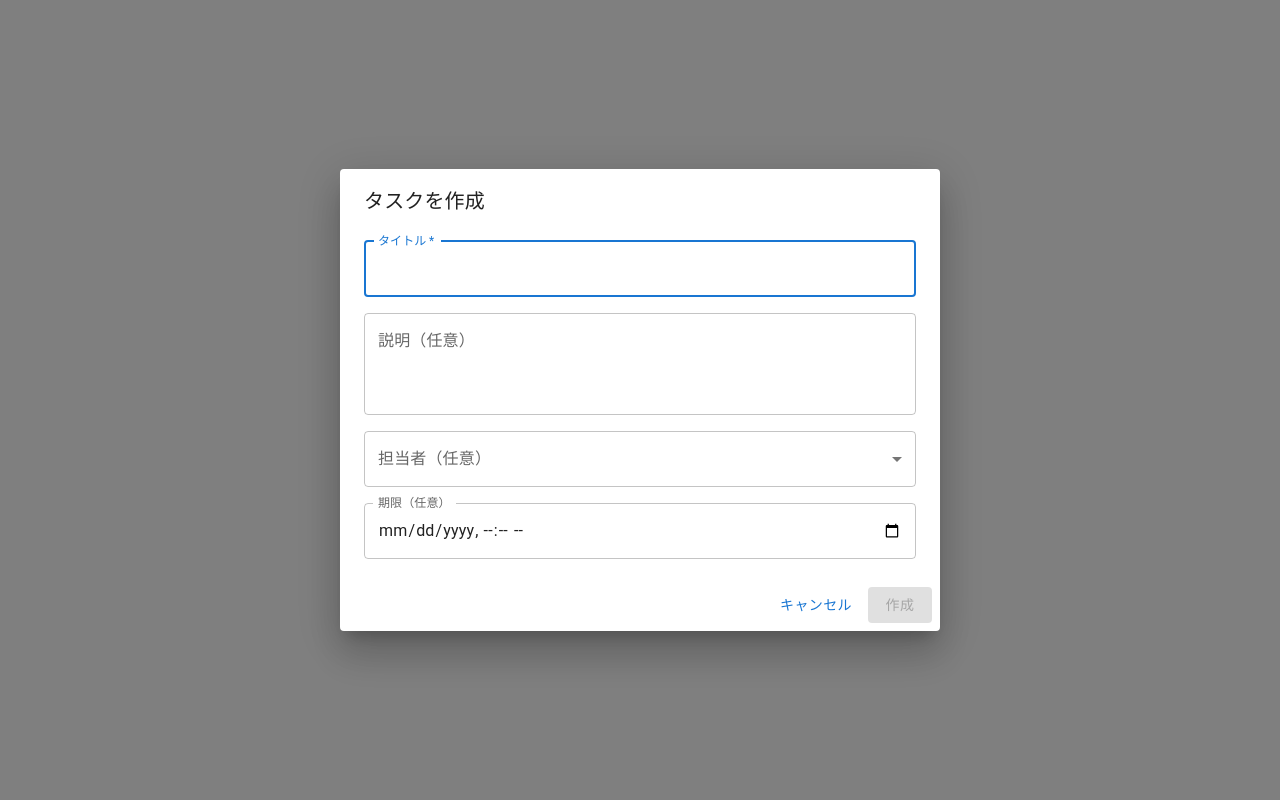
Test: CreateTaskDialog › フォームバリデーション › タイトルを入力すると送信ボタンが活性化する
Check: the button "作成" is disabled, box [868, 587, 932, 623]
Type "テストタスク" into the field labelled "タイトル *" at [640, 269], box [364, 241, 916, 297]
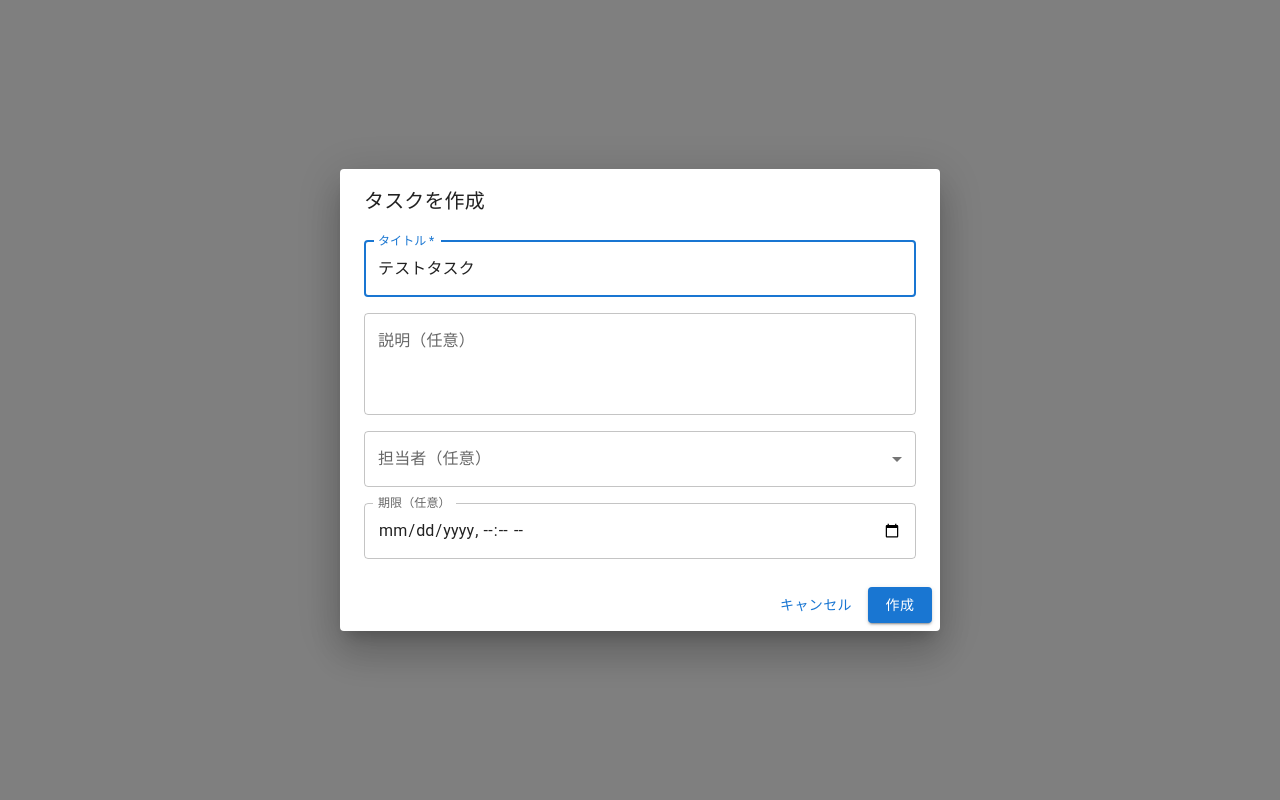
Check: the button "作成" is enabled, box [868, 587, 932, 623]
